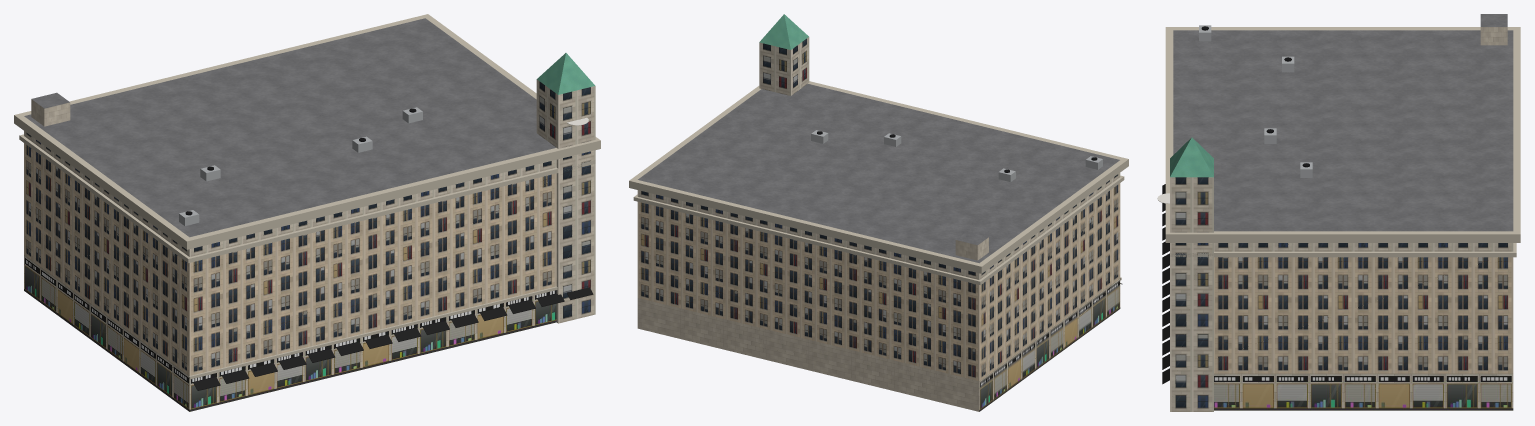
File: 062_dept_store_clock.glb
3 views of the same model, side by side, from view 1: azimuth 30°, elevation 25°; view 2: azimuth 150°, elevation 25°; view 3: azimuth 270°, elevation 25° (orthographic). The views are drawn at different scales.
Parts seen in each view (by area): view 1: 062_dept_store_clock; view 2: 062_dept_store_clock; view 3: 062_dept_store_clock.
Part boxes in pixels (bbox=[...]): 062_dept_store_clock: bbox=[14, 14, 600, 411]; 062_dept_store_clock: bbox=[629, 14, 1128, 411]; 062_dept_store_clock: bbox=[1157, 14, 1520, 411].
Size of the model in its own units: 72.2 by 43.1 by 53.45.
Materials: 11 (6 with a texture image).
